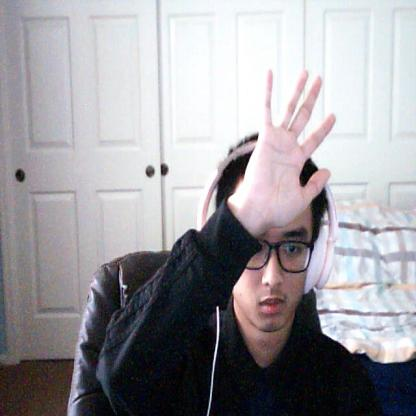palm: (250, 66, 335, 224)
